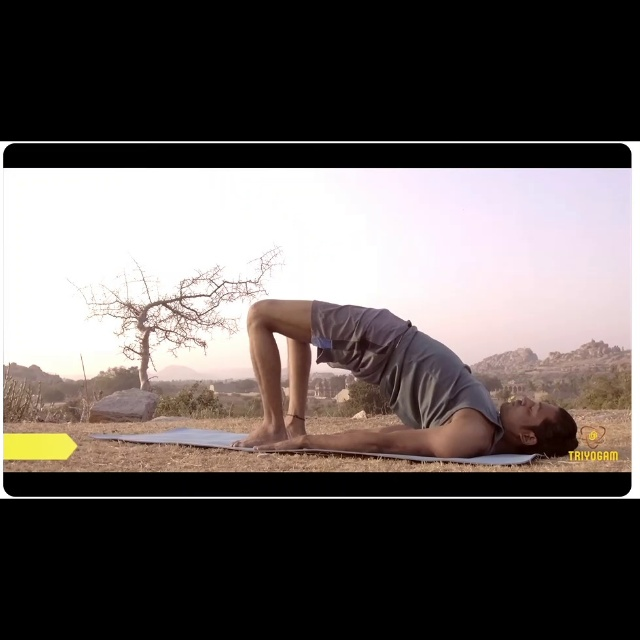Bridge_Pose: (219, 286, 582, 467)
